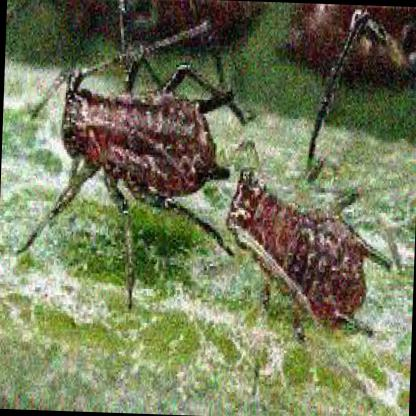uroleucon compositae: (22, 61, 234, 292)
